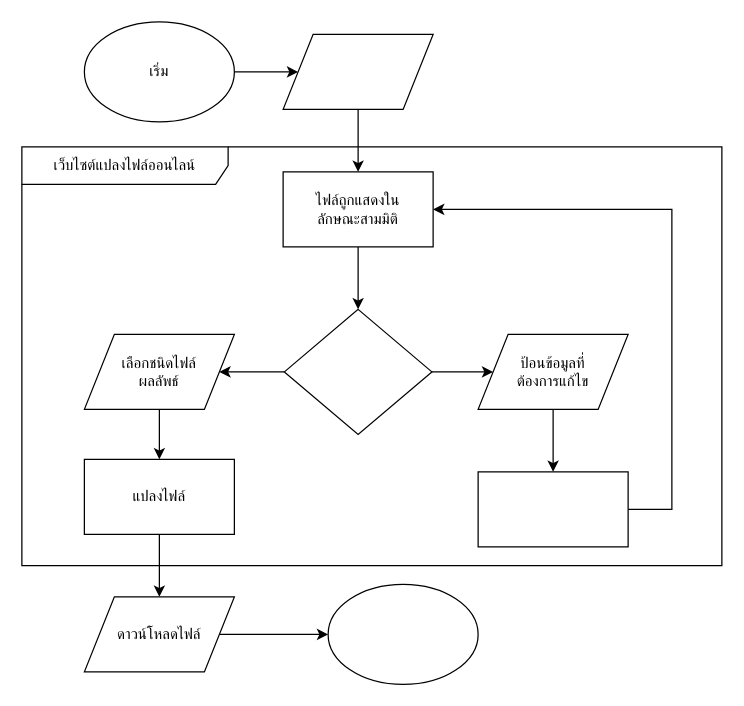
Some shapes in this 744 by 706 pixel diagram are drawn without their labels. Each missing label, with the box of its shape:
ต้องการ การแก้ไของค์ ประกอบไฟล์: (283, 308, 432, 434)
สิ้นสุด: (327, 583, 478, 684)
อัพโหลดไฟล์: (282, 33, 433, 109)
เปลี่ยนองค์ประกอบของไฟล์สามมิติ: (477, 471, 628, 547)
